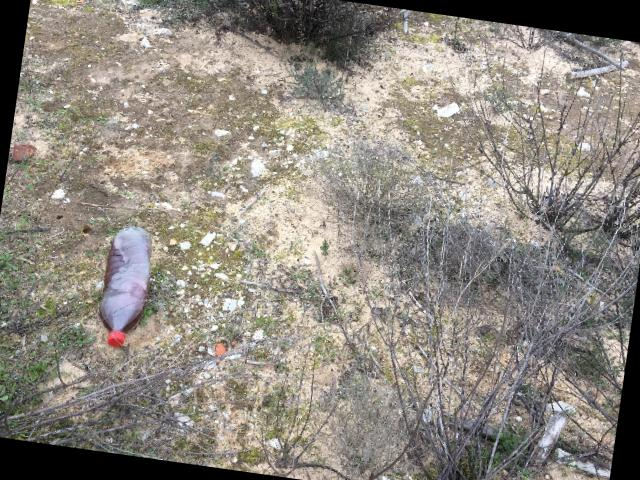plastic: (99, 226, 151, 347)
